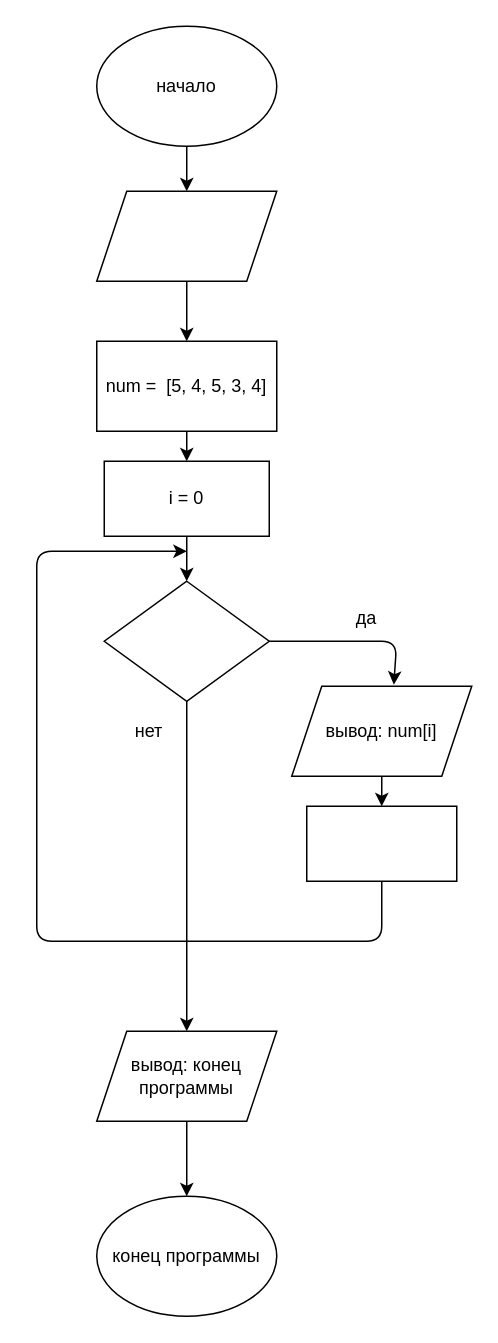
This 498x1343 diagram has some shape labels left out. The shapes that lost their labels are listed below. From the top down, each one's centre as x and y in pixels, then its label:
the point at 186,235: вывод: вывод массива
the point at 186,640: i < num.Length?
the point at 381,843: i++
